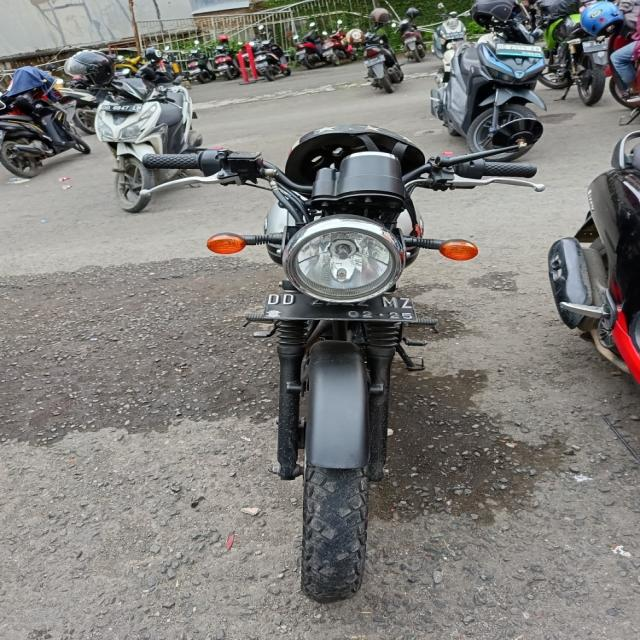plates: (266, 286, 412, 330)
